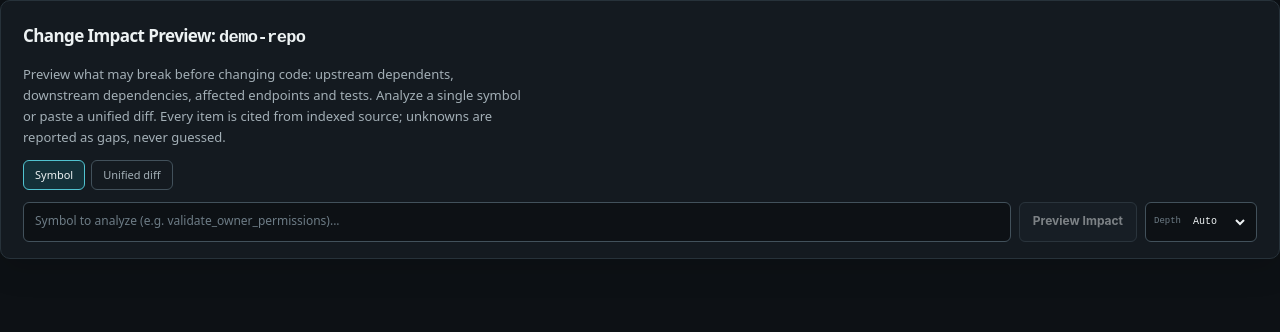
Scenario: ImpactPanel › surfaces ApiError messages and falls back to a safe message otherwise
The width and height of the screenshot is (1280, 332).
Type "anything" into the field named "Impact target symbol".
click(517, 222); type("anything")  # box [23,202,1011,242]
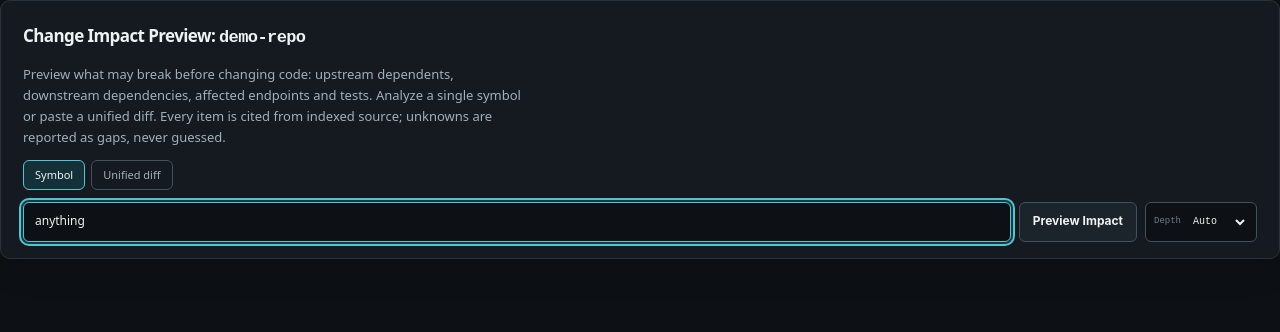
Click the button "Preview Impact".
click(1078, 222)  # box [1019,202,1137,242]
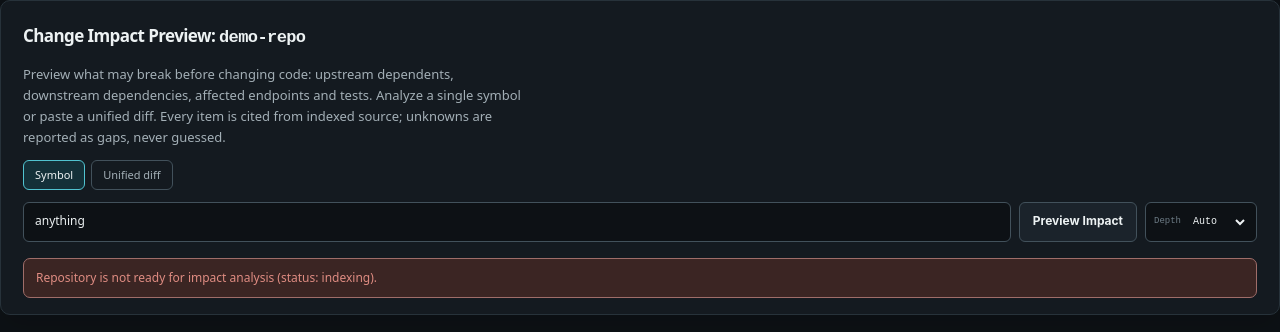
Expected: the text "Repository is not ready for impact analysis" is shown, [36,268,377,286]
Click the button "Preview Impact".
click(1078, 222)  # box [1019,202,1137,242]
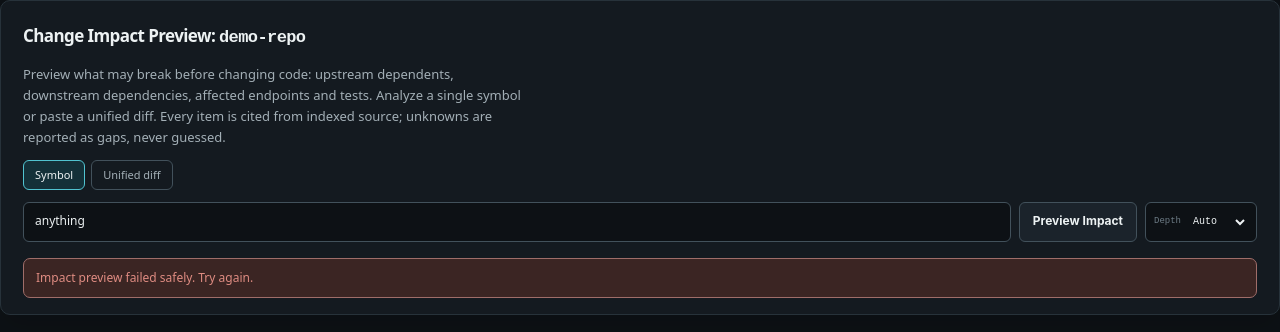
Expected: the text "Impact preview failed safely. Try again." is shown, [23,258,1257,298]
